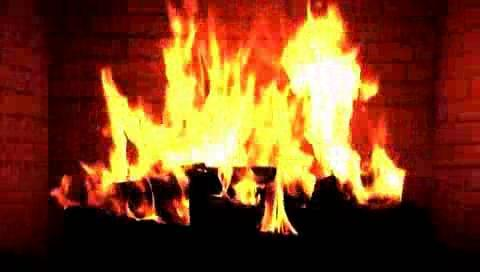fire: (92, 23, 392, 222)
